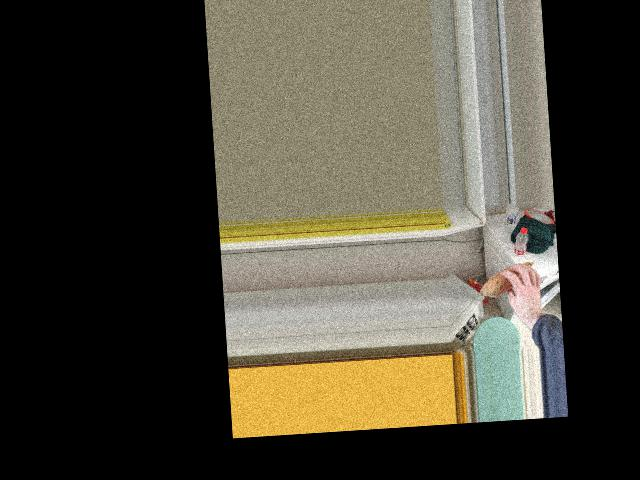sweet_potato: (480, 261, 539, 297)
